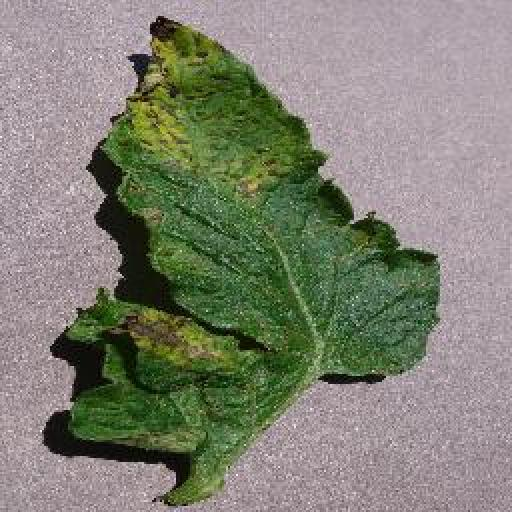disease_tomato: (62, 12, 441, 452)
